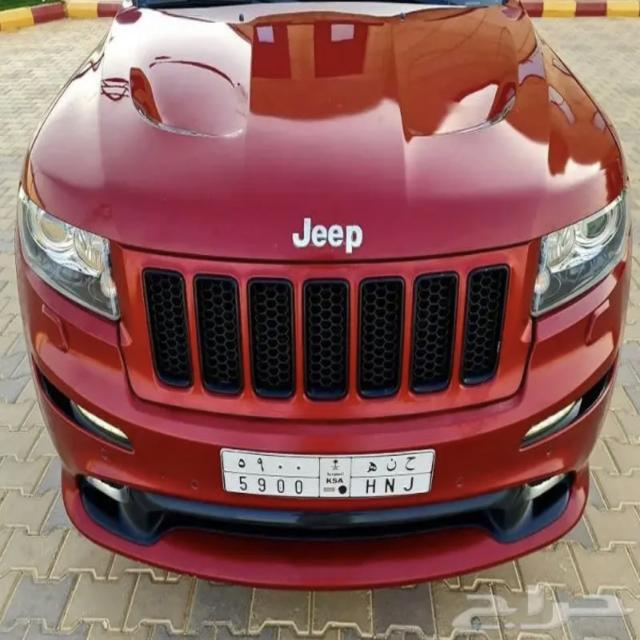license_plate: (220, 440, 437, 510)
